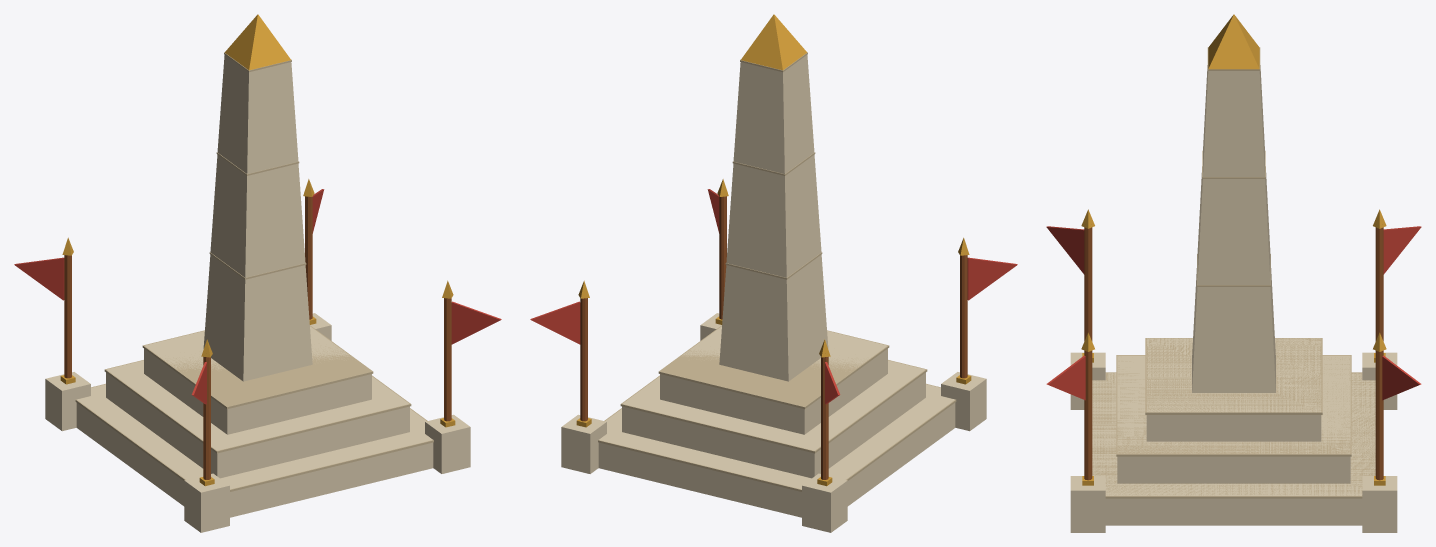
Rendered from monument.glb.
3 views of the same model, side by side, from view 1: azimuth 30°, elevation 25°; view 2: azimuth 150°, elevation 25°; view 3: azimuth 270°, elevation 25° (orthographic). The views are drawn at different scales.
Parts seen in each view (by area): view 1: monument_stein, monument_stein_dunkel, monument_holz, monument_fahne, monument_gold; view 2: monument_stein, monument_stein_dunkel, monument_holz, monument_fahne, monument_gold; view 3: monument_stein, monument_stein_dunkel, monument_holz, monument_fahne, monument_gold.
Boxes of the visible parts, <box> form: monument_stein: <box>45,55,470,532</box>; monument_stein_dunkel: <box>75,52,433,491</box>; monument_holz: <box>64,196,451,479</box>; monument_fahne: <box>14,189,501,404</box>; monument_gold: <box>60,14,455,486</box>; monument_stein: <box>561,55,986,532</box>; monument_stein_dunkel: <box>598,52,956,491</box>; monument_holz: <box>580,196,967,479</box>; monument_fahne: <box>530,189,1017,404</box>; monument_gold: <box>576,14,971,486</box>; monument_stein: <box>1070,65,1397,532</box>; monument_stein_dunkel: <box>1092,47,1375,498</box>; monument_holz: <box>1084,227,1383,480</box>; monument_fahne: <box>1046,226,1421,400</box>; monument_gold: <box>1081,14,1386,485</box>.
Bounding box in the file's own units: 3.22 × 4.26 × 3.22.
